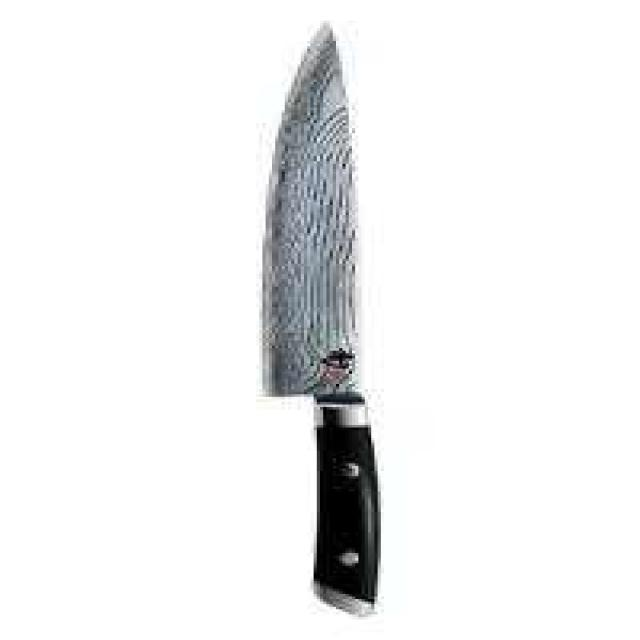Knife: (260, 21, 386, 636)
